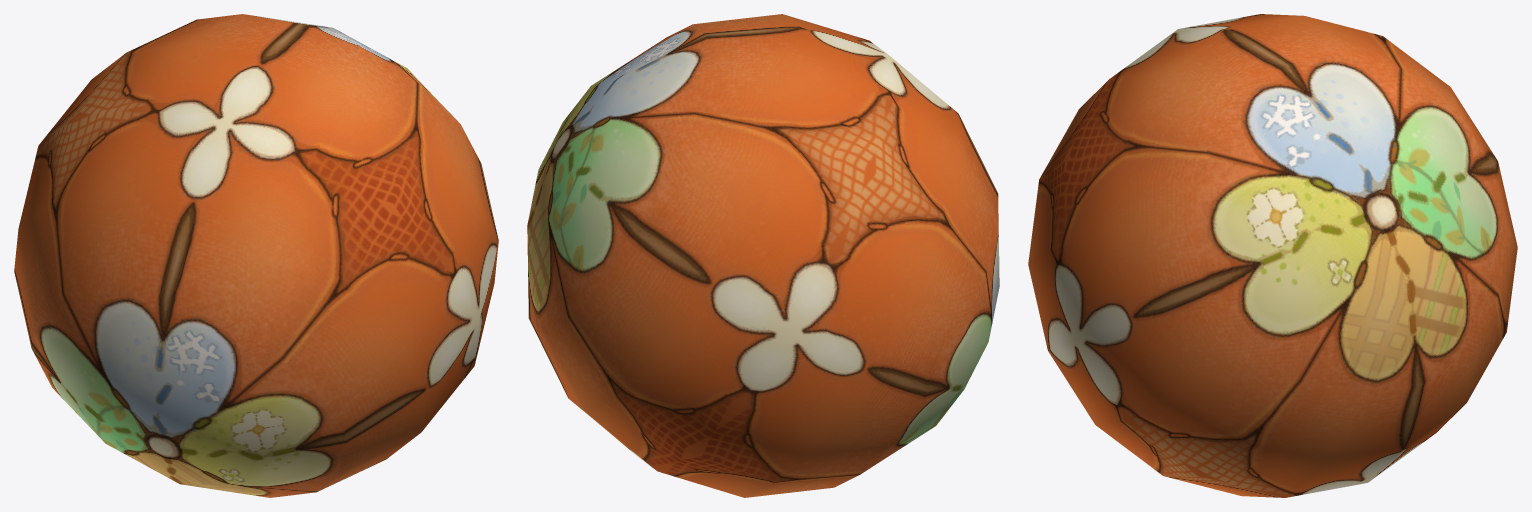
The model's file is Homeworld_Exterior_Common_Thing_Pool_01_D_Lod0.fbx.
The picture shows the model from 3 angles, left to right: view 1: azimuth 30°, elevation 25°; view 2: azimuth 150°, elevation 25°; view 3: azimuth 270°, elevation 25°; orthographic projection.
Parts seen in each view (by area): view 1: Homeworld_Exterior_Common_Thing_Pool_01_D_Lod0; view 2: Homeworld_Exterior_Common_Thing_Pool_01_D_Lod0; view 3: Homeworld_Exterior_Common_Thing_Pool_01_D_Lod0.
Part boxes in pixels (<box>): Homeworld_Exterior_Common_Thing_Pool_01_D_Lod0: <box>14,14,498,497</box>; Homeworld_Exterior_Common_Thing_Pool_01_D_Lod0: <box>527,14,999,497</box>; Homeworld_Exterior_Common_Thing_Pool_01_D_Lod0: <box>1028,14,1517,497</box>.
Bounding box in the file's own units: 0.5052 × 0.4992 × 0.5066.
